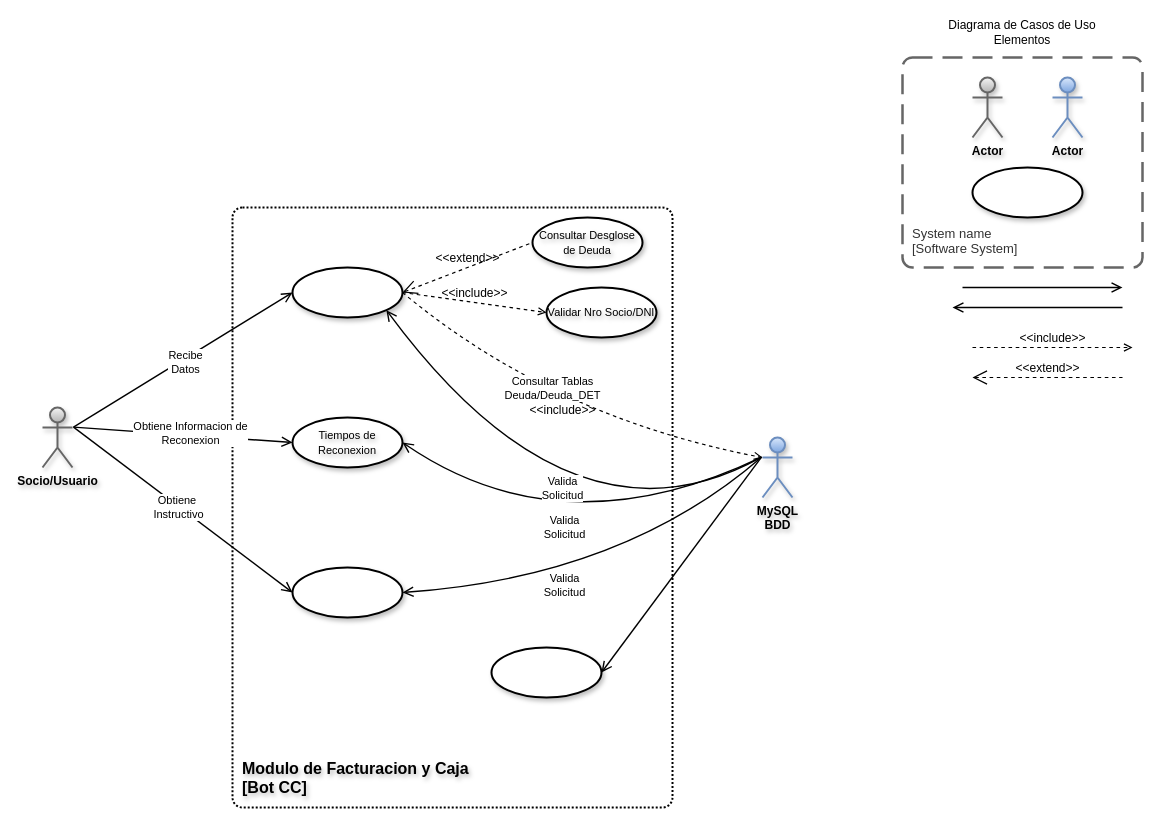
The diagram is 1161 pixels wide and 825 high, and some of its shapes have lost their labels. Each missing label, with the centre of its shape:
Consulta Base de Datos: [547,673]
Consultar Deuda por Domicilio/Socio: [348,293]
Obtener Instructivo Medios de pago: [348,593]
Use Case: [1028,193]
